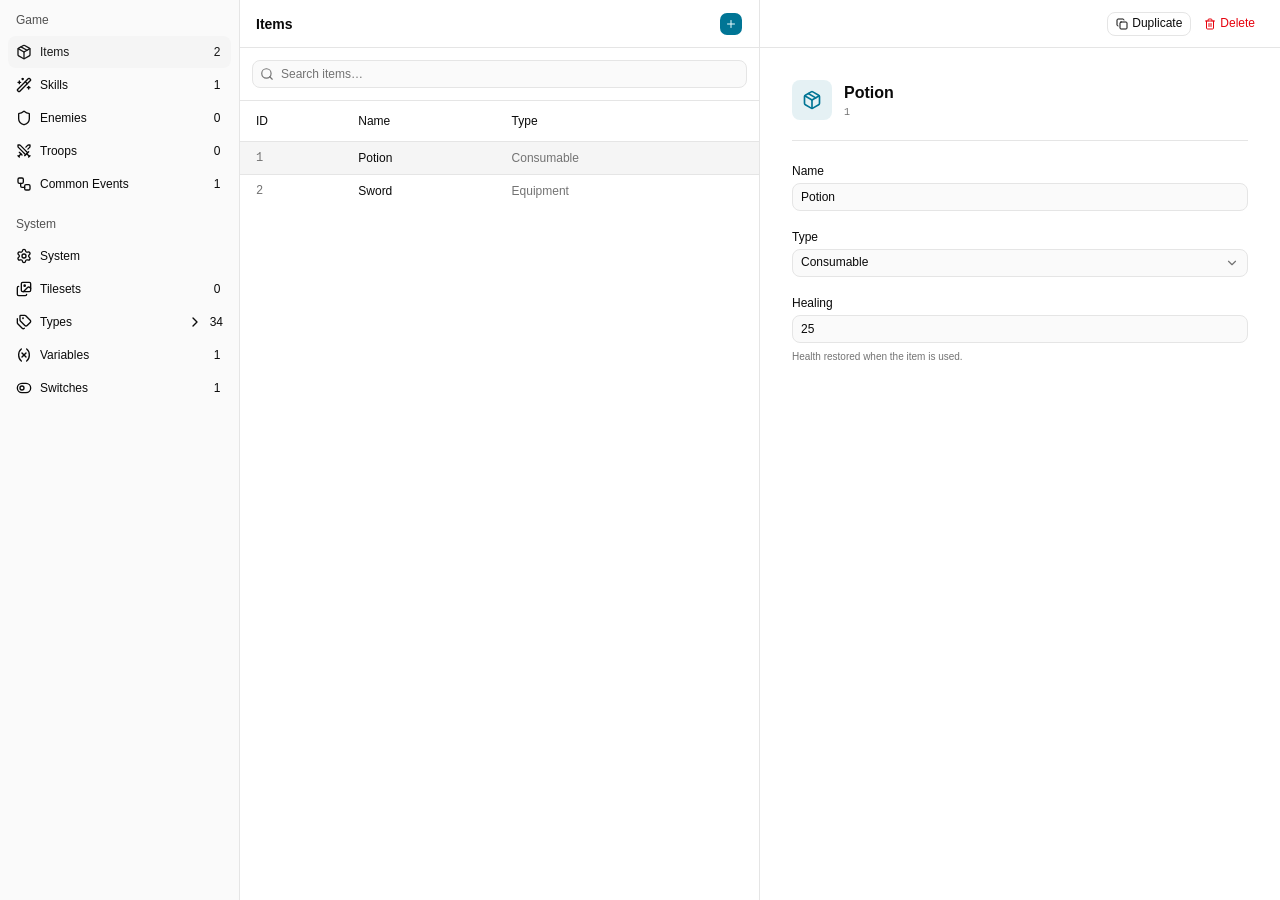
Test: DatabaseManager › blocks deletion when the selected skill is referenced
This screenshot has width=1280, height=900.
Click the button "Skills". click: (120, 85)
box: [8,69,231,101]
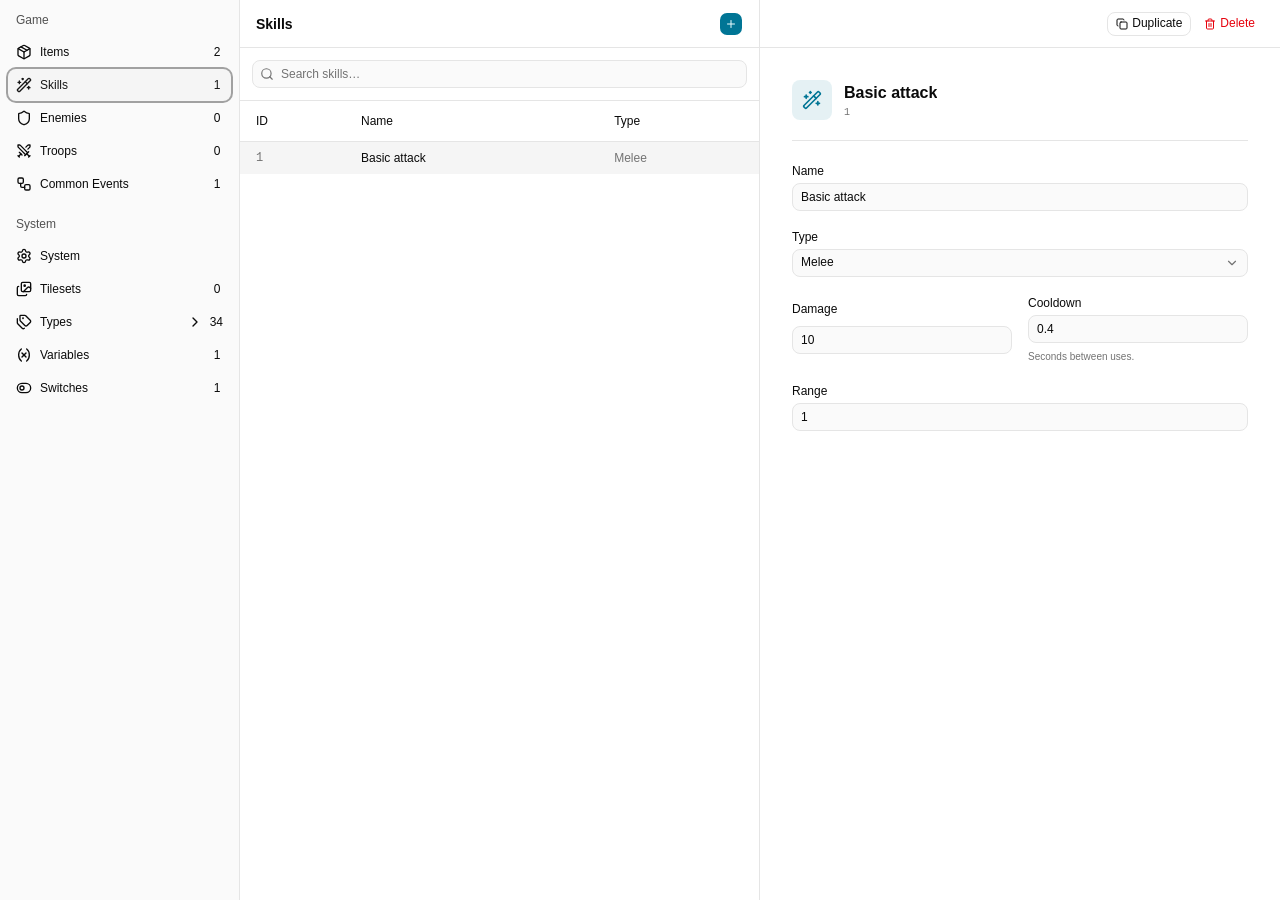
Click the button "Delete". click: (1230, 24)
box: [1195,12,1264,36]
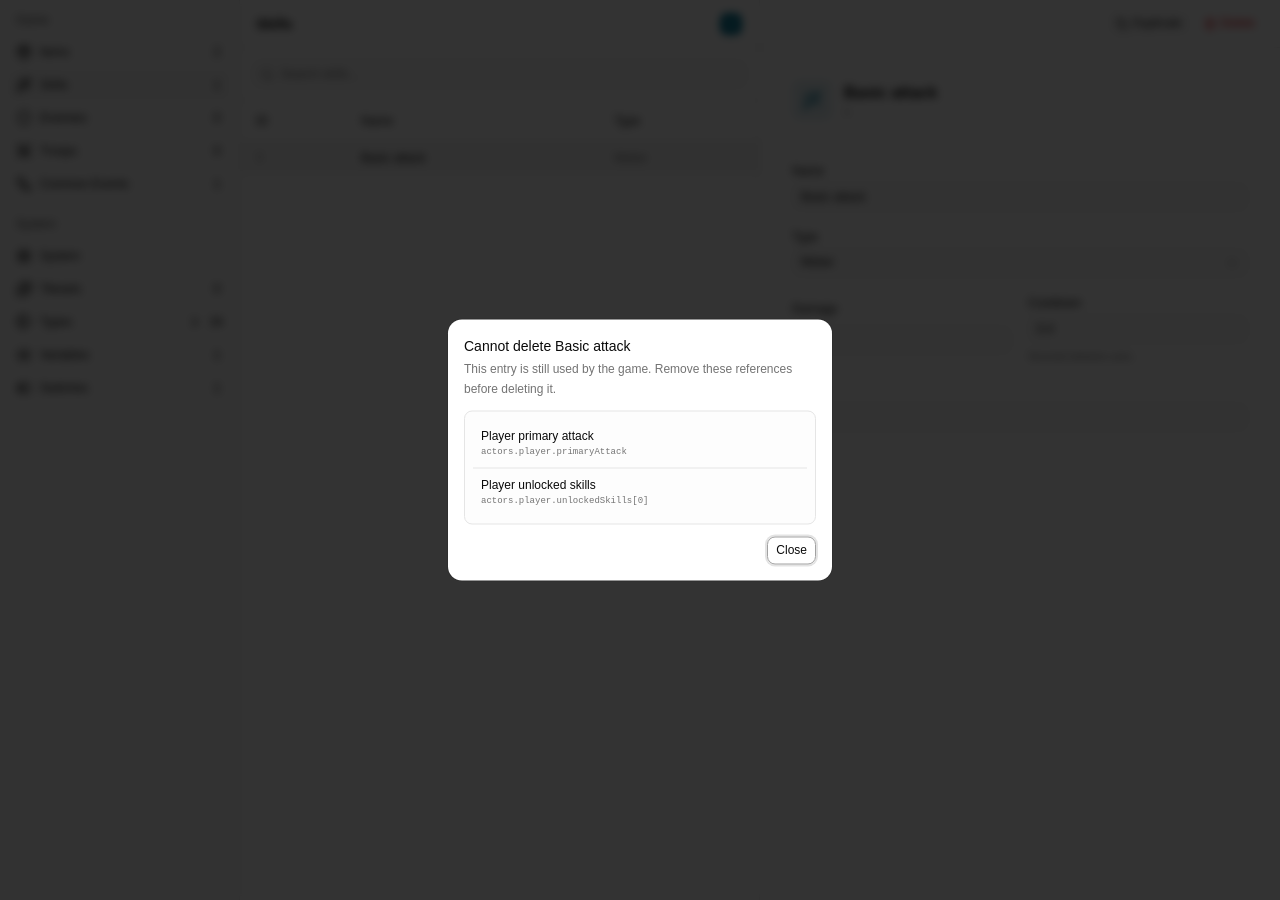
Check: the dialog shows "Cannot delete Basic attack", box [464,338,630,354]
Check: the text "Player primary attack" is shown, box [481,428,594,442]
